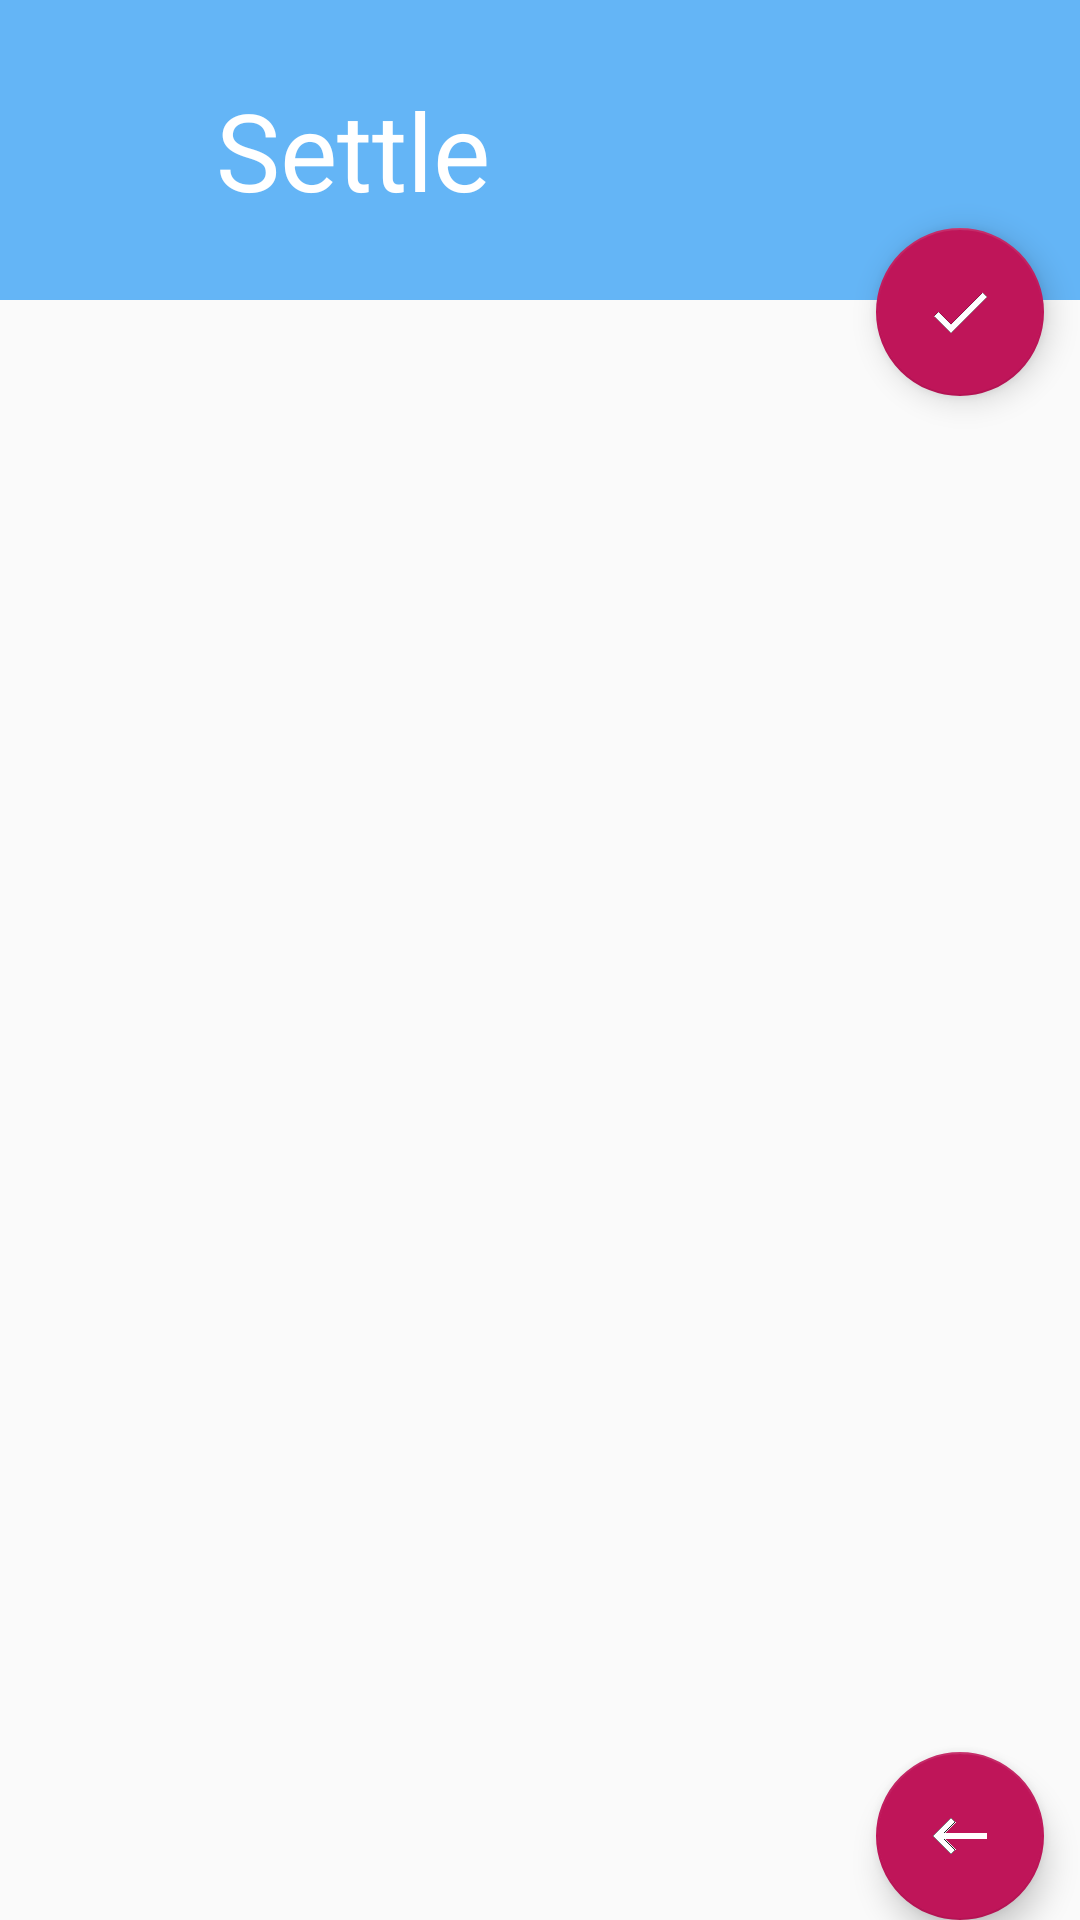

Icons on this 1080px×1920px Android screen, each with the point to tap as (x,y):
backb: (960,1836)
